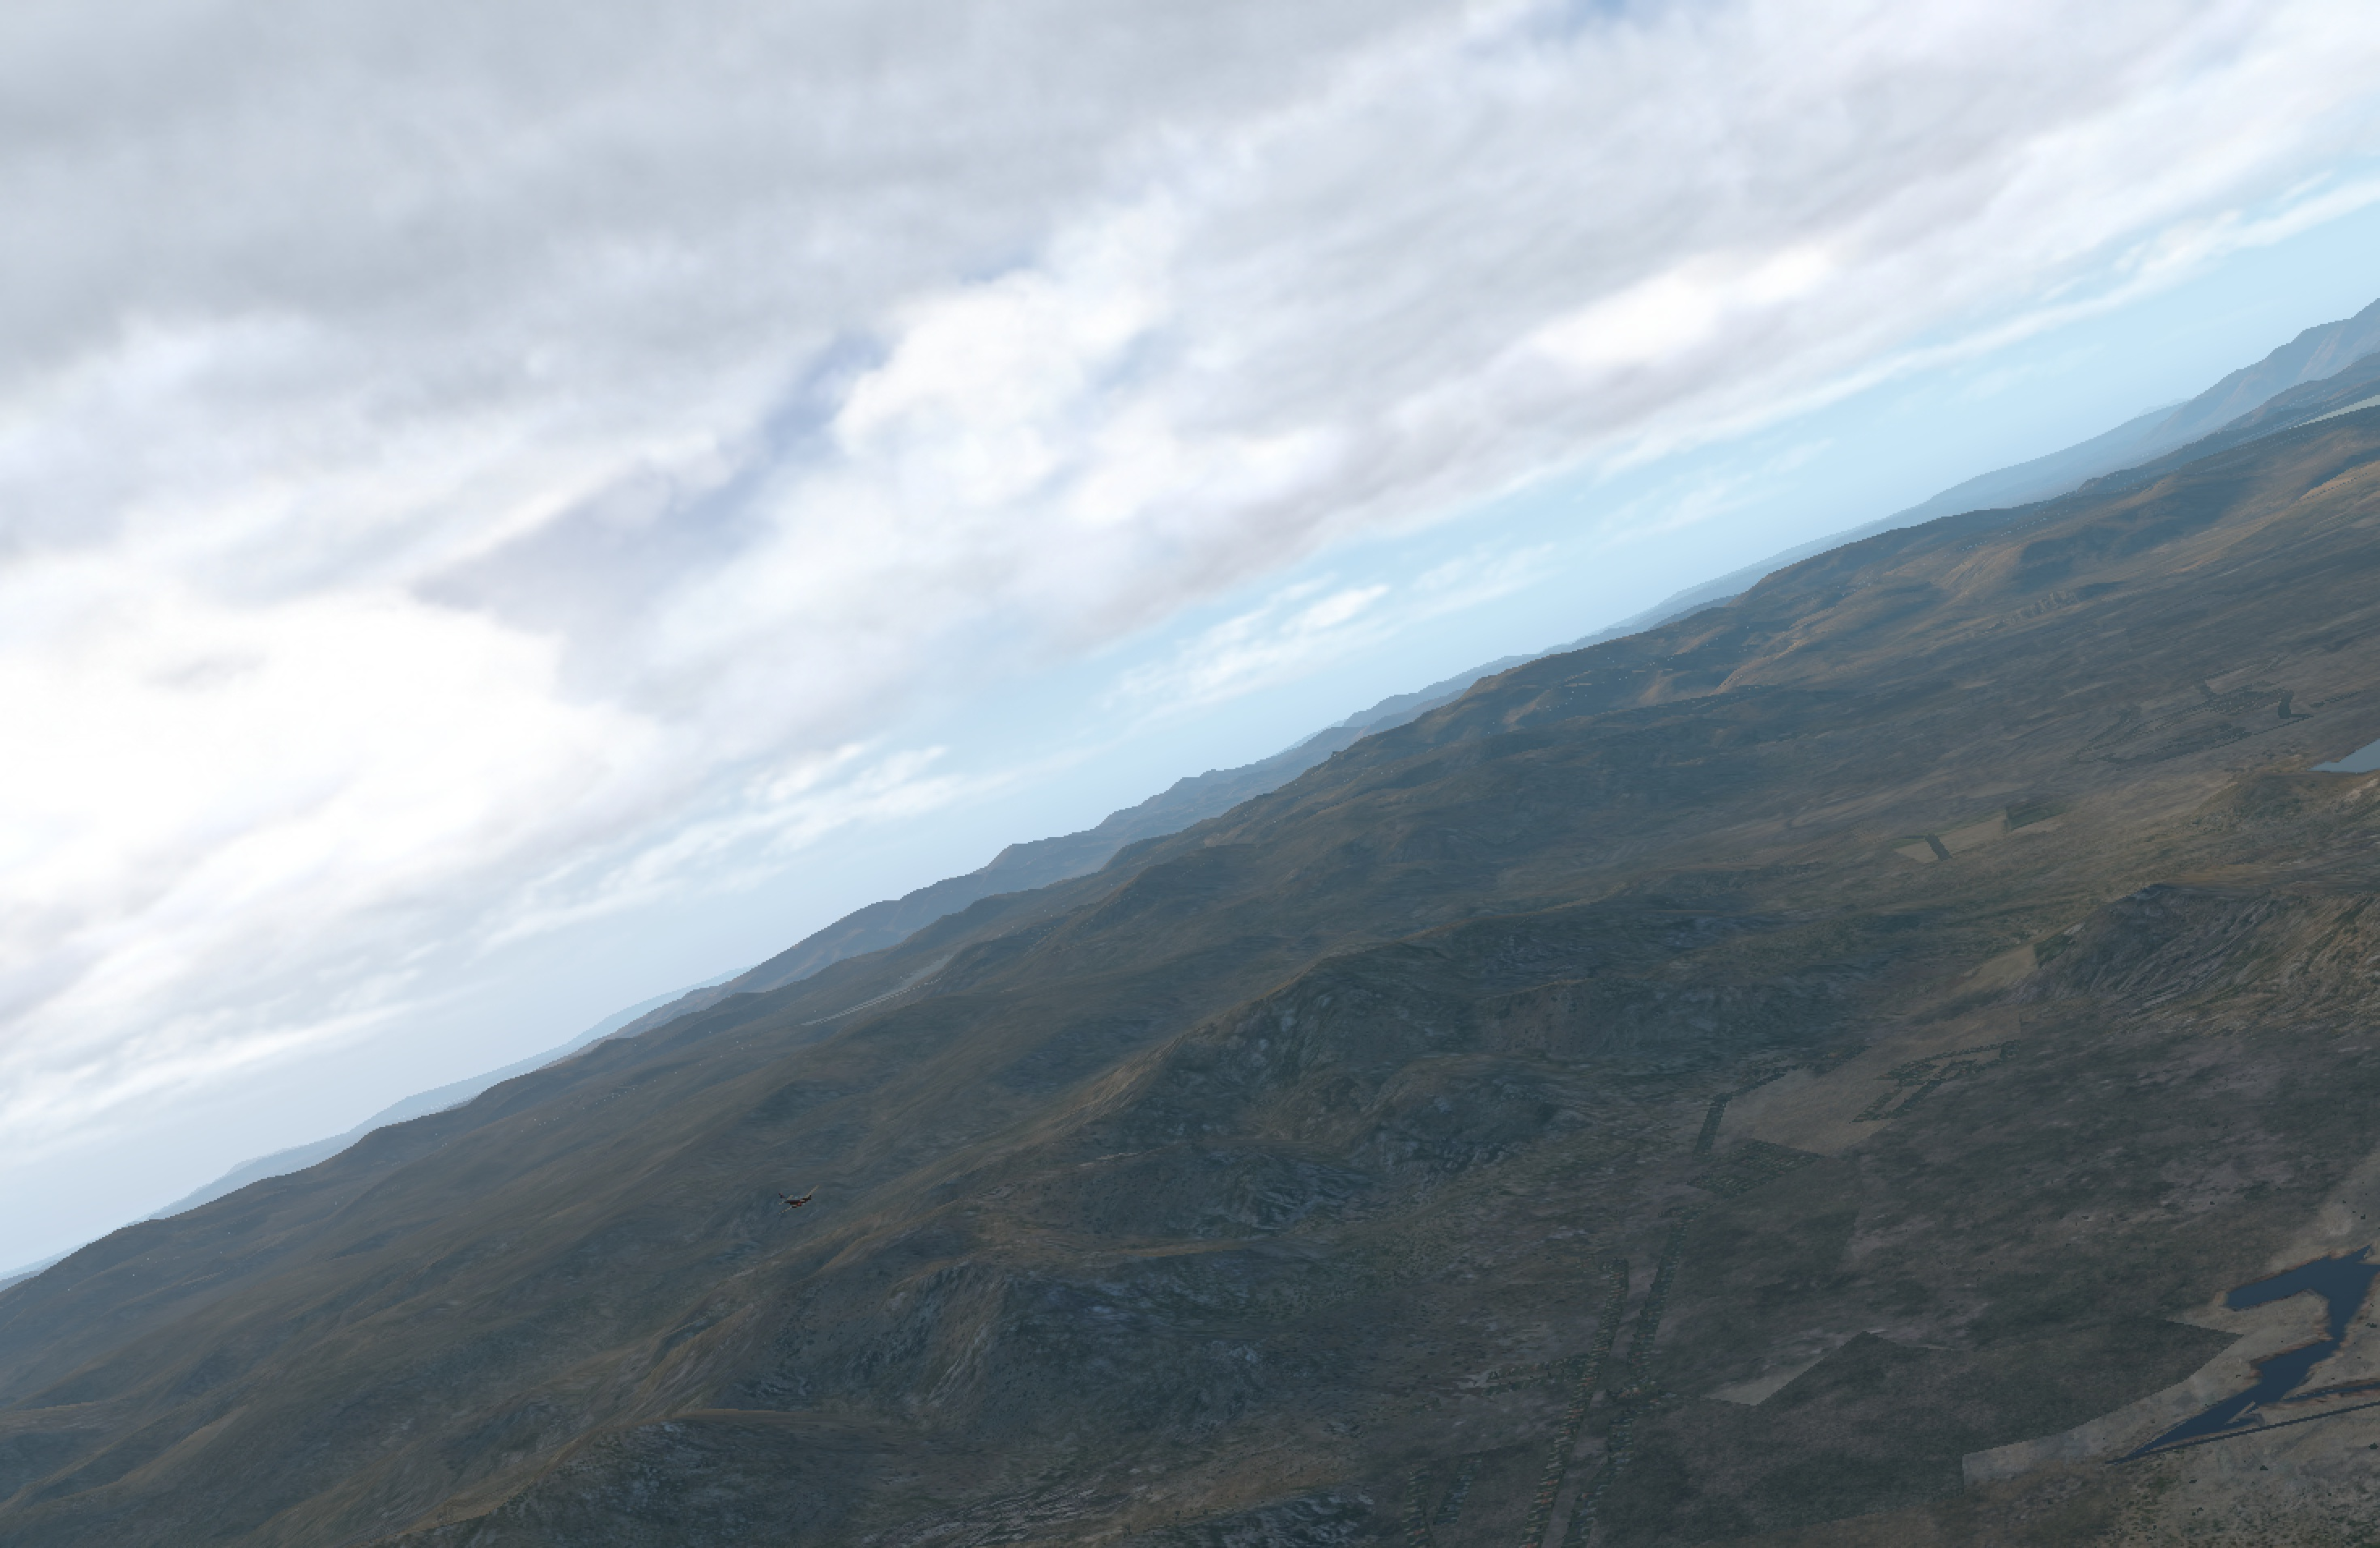aircraft: (772, 1192, 831, 1213)
